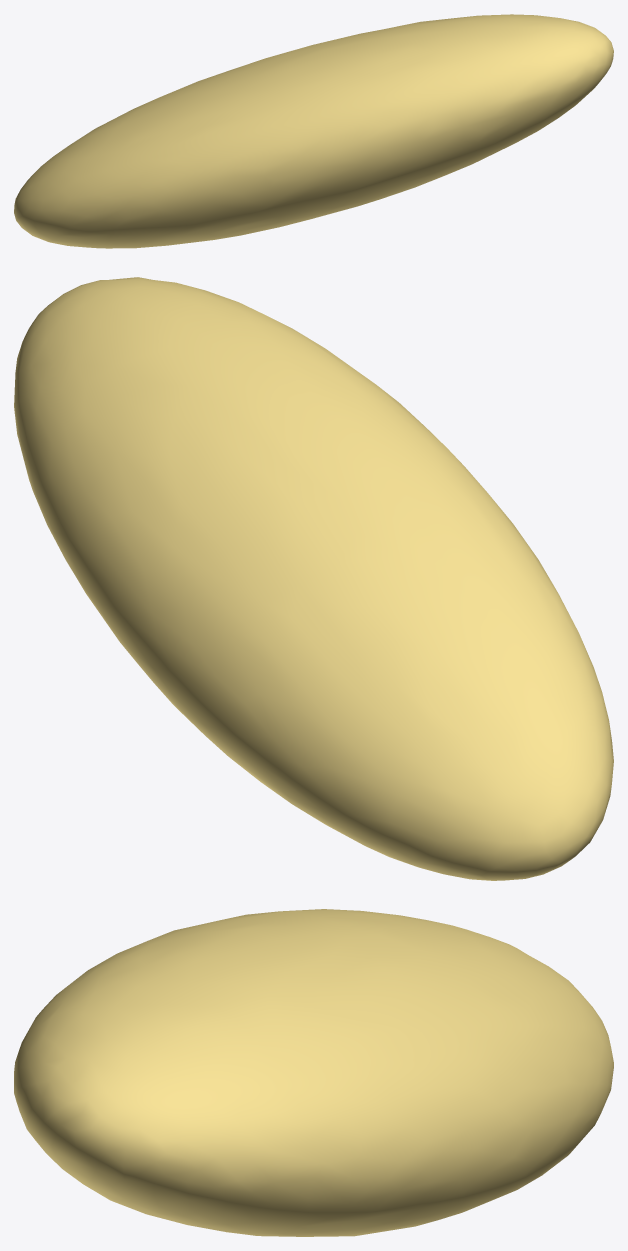
The model's file is fma73331_fj7515.glb.
3 views of the same model, one above another, from view 1: azimuth 30°, elevation 25°; view 2: azimuth 150°, elevation 25°; view 3: azimuth 270°, elevation 25° (orthographic). The views are drawn at different scales.
Visible parts, largest first — view 1: FMA73331_FJ7515; view 2: FMA73331_FJ7515; view 3: FMA73331_FJ7515.
Boxes of the visible parts, x1,y1,x2,y2 form: FMA73331_FJ7515: (14,14,613,248); FMA73331_FJ7515: (14,277,613,880); FMA73331_FJ7515: (14,909,613,1236).
Size of the model in its own units: 0.00542 by 0.00232 by 0.0035.
